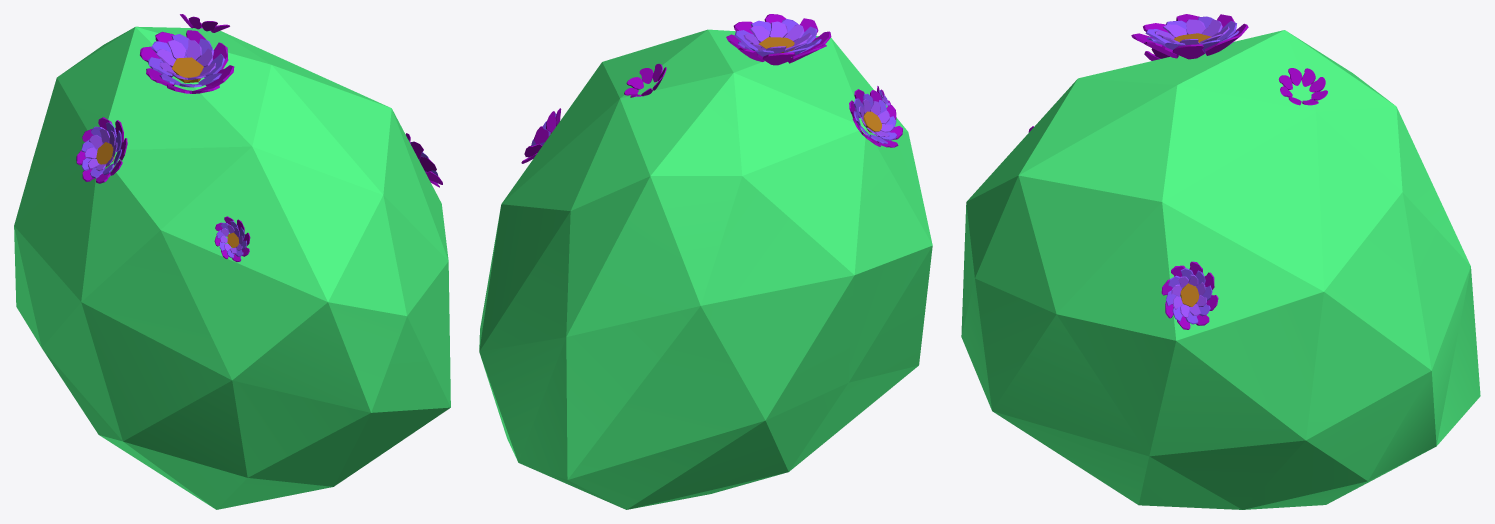
File: zbun4.fbx
3 views of the same model, side by side, from view 1: azimuth 30°, elevation 25°; view 2: azimuth 150°, elevation 25°; view 3: azimuth 270°, elevation 25° (orthographic). The views are drawn at different scales.
Visible parts, largest first — view 1: zbunsuma3; view 2: zbunsuma3; view 3: zbunsuma3.
Part boxes in pixels (x1,y1,x2,y2): zbunsuma3: [14, 14, 450, 509]; zbunsuma3: [479, 14, 932, 509]; zbunsuma3: [961, 14, 1480, 509].
Bounding box in the file's own units: 101 × 116 × 124.
